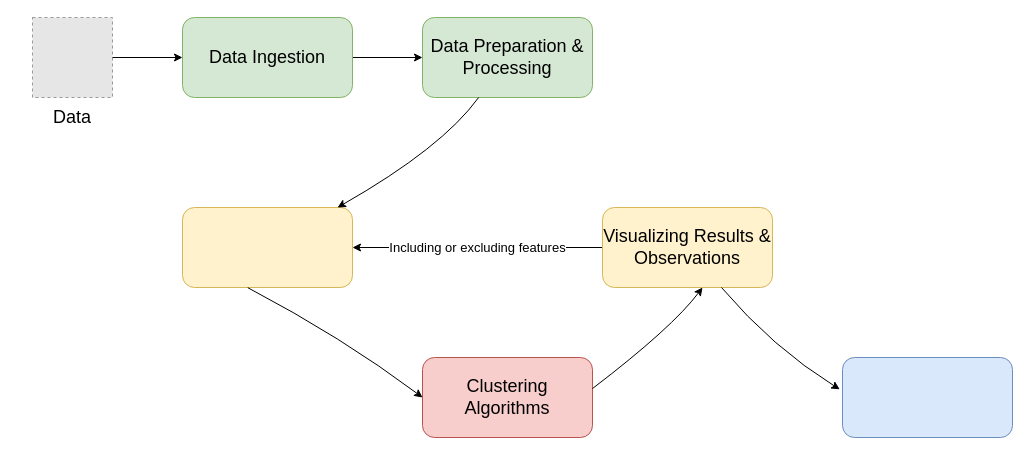
Some shapes in this 1030 by 455 pixel diagram are drawn without their labels. Grey dashed boxes stand in for pictures. The centre of each missing label's shape, as x and y in pixels:
Feature Engineering & Selection: the point at 267,247
Principal Component Analysis: the point at 927,397
